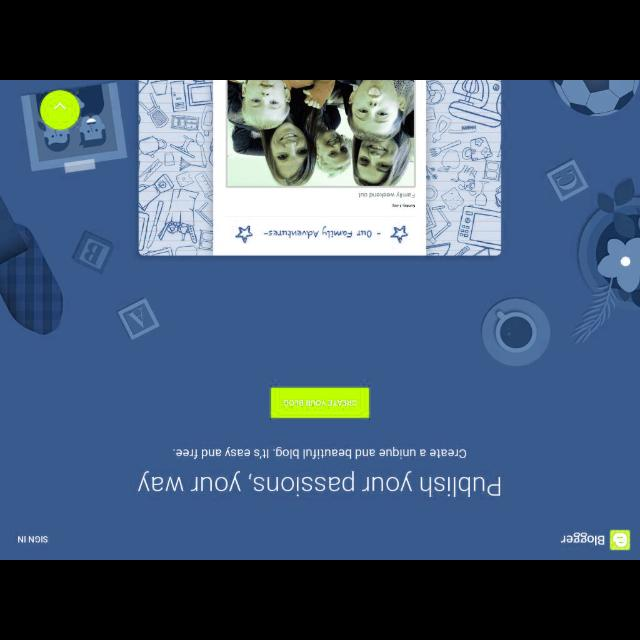button: (39, 90, 80, 130)
icon: (52, 100, 66, 112)
image: (139, 81, 499, 256), (610, 532, 628, 550)
text: (138, 472, 502, 498), (171, 445, 467, 461), (562, 531, 604, 547), (17, 532, 49, 544)
textbutton: (270, 388, 370, 418)
